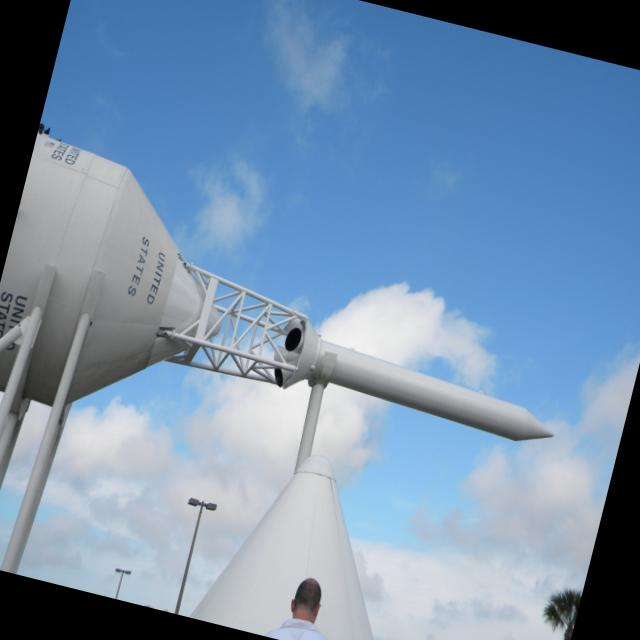rocket: (309, 344, 568, 457)
